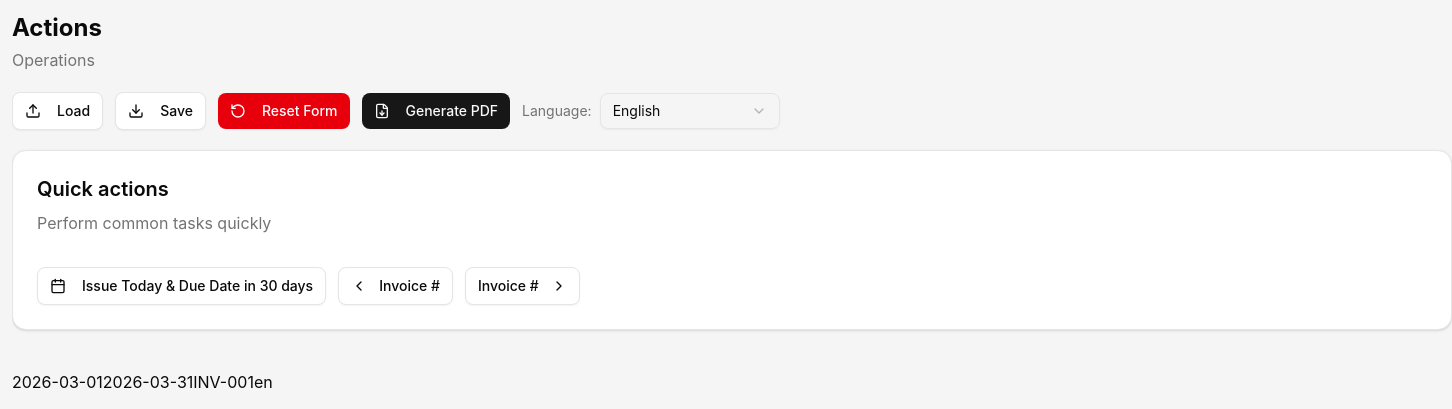
Actions › resets the invoice to defaults when 'Reset Form' is clicked
Check: the text with test id "invoiceNumber" reads "INV-001", box [193,372,254,392]
Click the button "Reset Form".
click(284, 111)  # box [218,93,350,129]
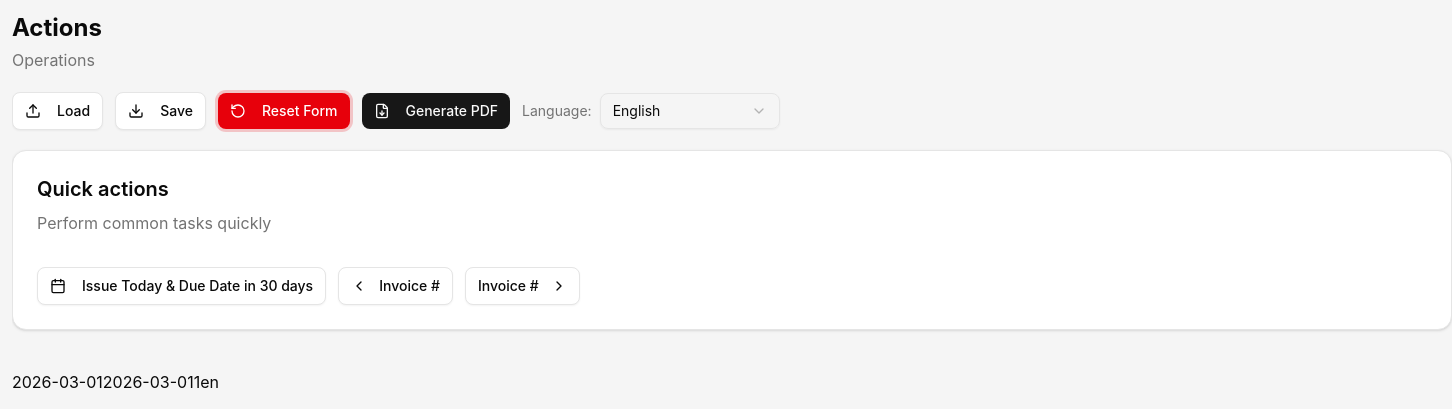
Check: the text with test id "invoiceNumber" reads "1", box [194,372,200,392]
